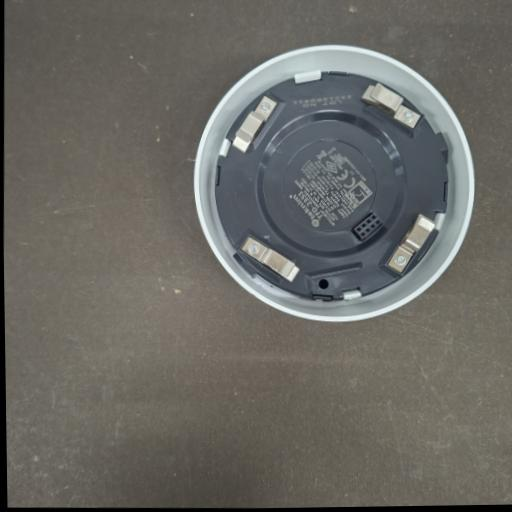yayli: (389, 214, 435, 273), (241, 236, 299, 282), (362, 83, 421, 128), (233, 96, 277, 153)
